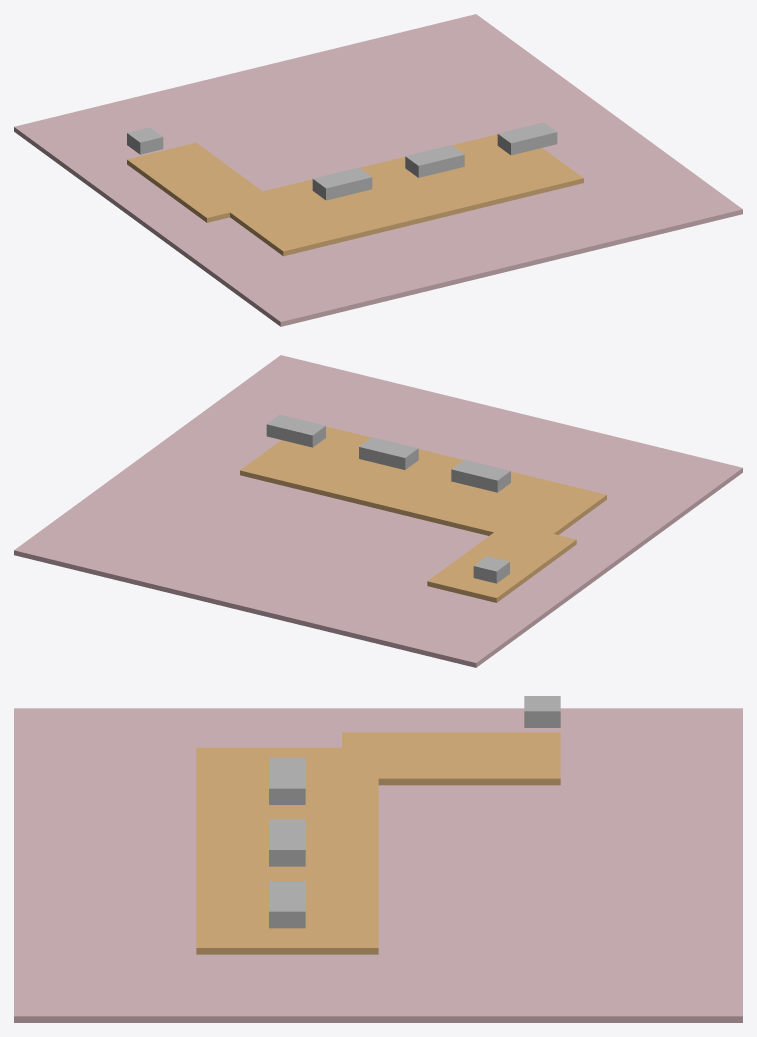
File: board.glb
3 views of the same model, one above another, from view 1: azimuth 30°, elevation 25°; view 2: azimuth 150°, elevation 25°; view 3: azimuth 270°, elevation 25° (orthographic). The views are drawn at different scales.
Parts seen in each view (by area): view 1: Substrate_Layer_0, Substrate_Layer_2, Substrate_Layer_3, Substrate_Layer_1, Substrate_Layer_4, R[0], R[2], R[1], L1; view 2: Substrate_Layer_0, Substrate_Layer_2, Substrate_Layer_4, Substrate_Layer_3, Substrate_Layer_1, R[0], R[1], R[2], L1; view 3: Substrate_Layer_0, Substrate_Layer_3, Substrate_Layer_1, Substrate_Layer_2, Substrate_Layer_4, R[0], R[1], R[2], L1.
Boxes of the visible parts, box(x1,y1,x2,y2) form: Substrate_Layer_0: box(14, 14, 742, 326); Substrate_Layer_2: box(219, 180, 398, 256); Substrate_Layer_3: box(309, 157, 491, 233); Substrate_Layer_1: box(127, 142, 275, 222); Substrate_Layer_4: box(402, 134, 583, 205); R[0]: box(312, 167, 372, 200); R[2]: box(497, 122, 557, 155); R[1]: box(405, 145, 464, 177); L1: box(127, 127, 163, 154); Substrate_Layer_0: box(14, 355, 742, 667); Substrate_Layer_2: box(447, 471, 606, 543); Substrate_Layer_4: box(240, 426, 420, 498); Substrate_Layer_3: box(332, 449, 486, 525); Substrate_Layer_1: box(427, 524, 576, 602); R[0]: box(451, 459, 510, 492); R[1]: box(359, 437, 418, 469); R[2]: box(266, 414, 325, 447); L1: box(473, 556, 509, 583); Substrate_Layer_0: box(14, 708, 742, 1022); Substrate_Layer_3: box(196, 809, 378, 886); Substrate_Layer_1: box(342, 732, 560, 785); Substrate_Layer_2: box(196, 747, 378, 824); Substrate_Layer_4: box(196, 886, 378, 954); R[0]: box(269, 757, 305, 804); R[1]: box(269, 819, 305, 866); R[2]: box(269, 881, 305, 928); L1: box(524, 696, 560, 727).
Bounding box in the file's own units: 0.02 × 0.0015 × 0.02.
